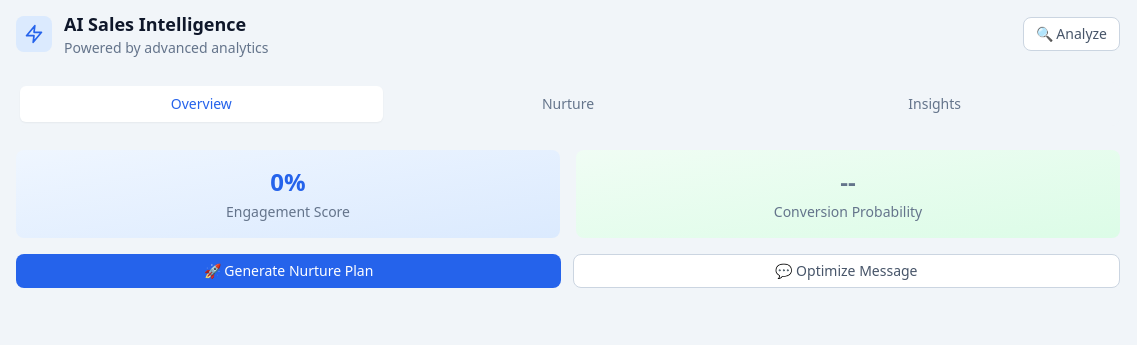
Test: AISalesIntelligencePanel › Insights Tab › should show generic insights when contact data is missing
What coordinates should you click on to do the following:
click the button "Insights"
I would click on:
 (935, 104)
Its box is [753,86,1116,122].
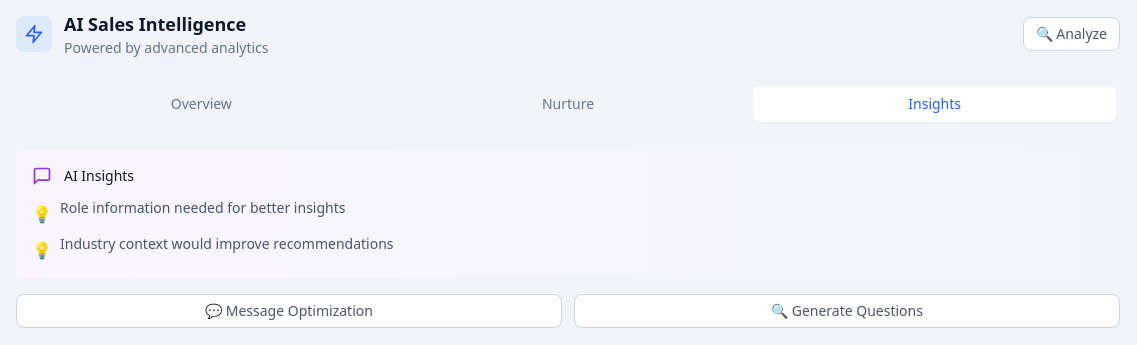
Check: the text "Role information needed for better insights" is shown, box [60,198,346,218]
Check: the text "Industry context would improve recommendations" is shown, box [60,234,394,254]
